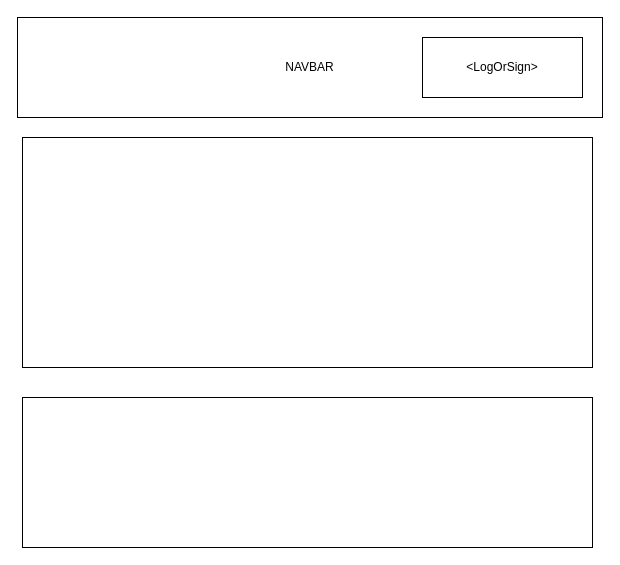
Image size: 620x565. Some labels were removed from this diagram. Here are the shapes that lost their labels. From the top down, the centre of each, then its label:
(307,252): CENTRE
(307,472): FOOTER
